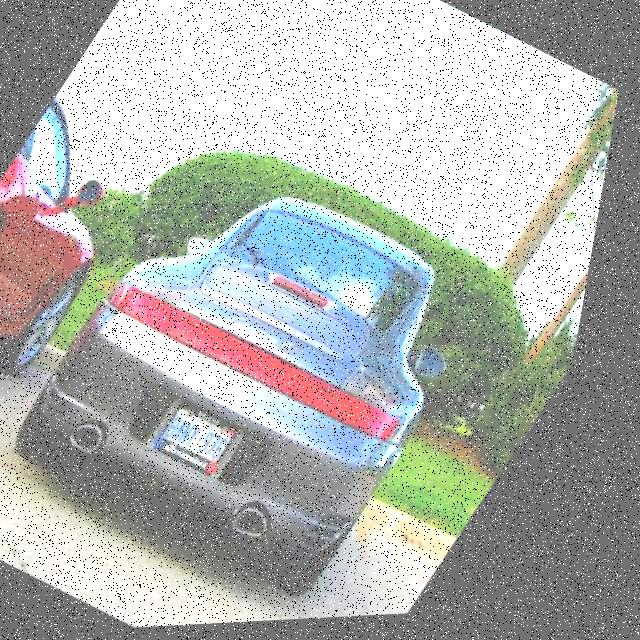license_plate: (164, 401, 262, 482)
